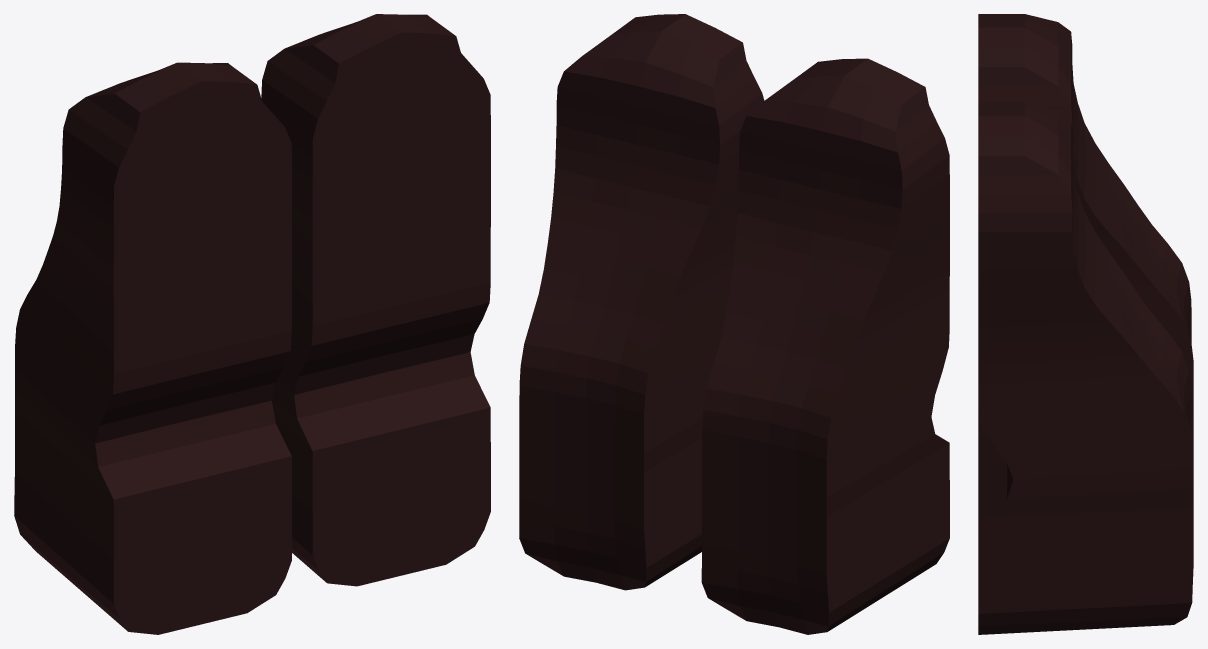
The model's file is shoes.fbx.
The picture shows the model from 3 angles, left to right: view 1: azimuth 30°, elevation 25°; view 2: azimuth 150°, elevation 25°; view 3: azimuth 270°, elevation 25°; orthographic projection. The views are drawn at different scales.
Parts seen in each view (by area): view 1: Shoes; view 2: Shoes; view 3: Shoes.
Part boxes in pixels (x1=…): Shoes: x1=14, y1=14, x2=490, y2=634; Shoes: x1=519, y1=14, x2=949, y2=634; Shoes: x1=978, y1=14, x2=1193, y2=634.
Bounding box in the file's own units: 45.5 × 62.61 × 24.63.
